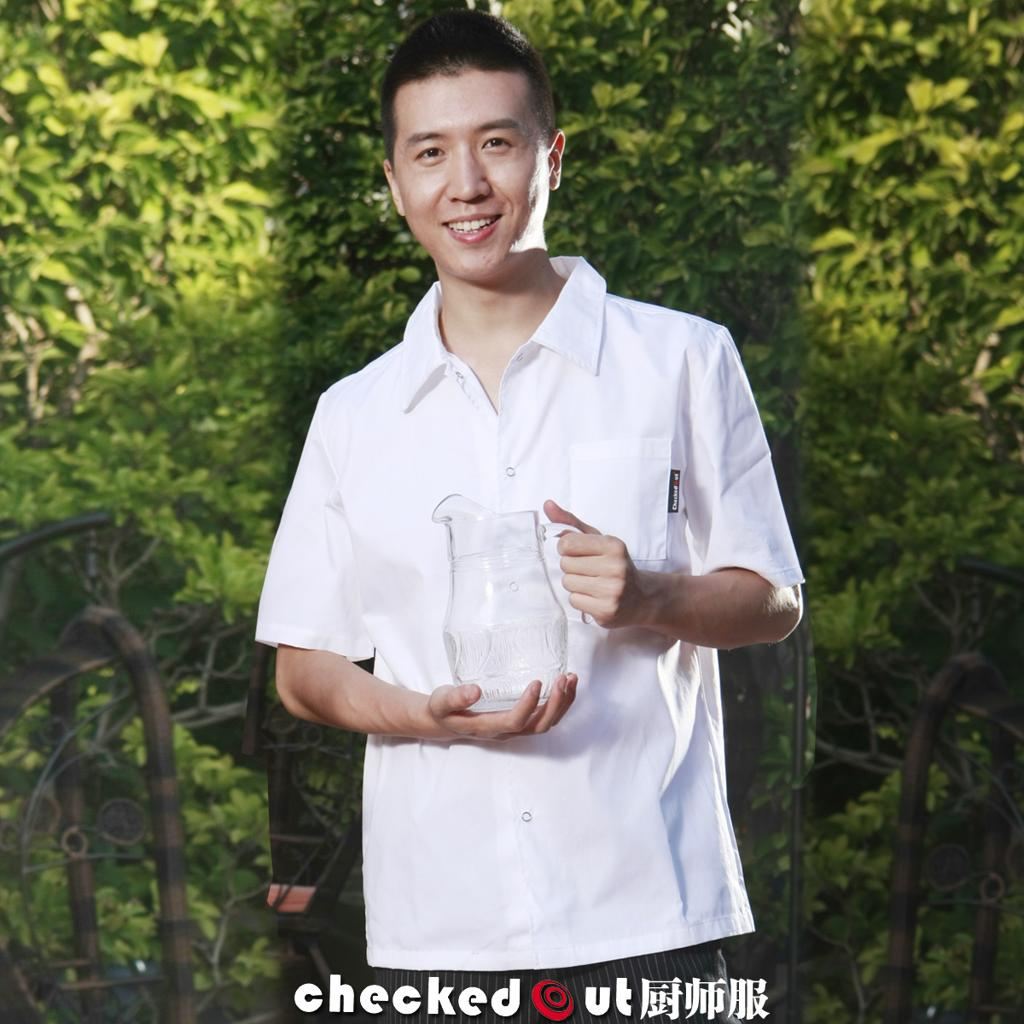face: (392, 68, 548, 274)
